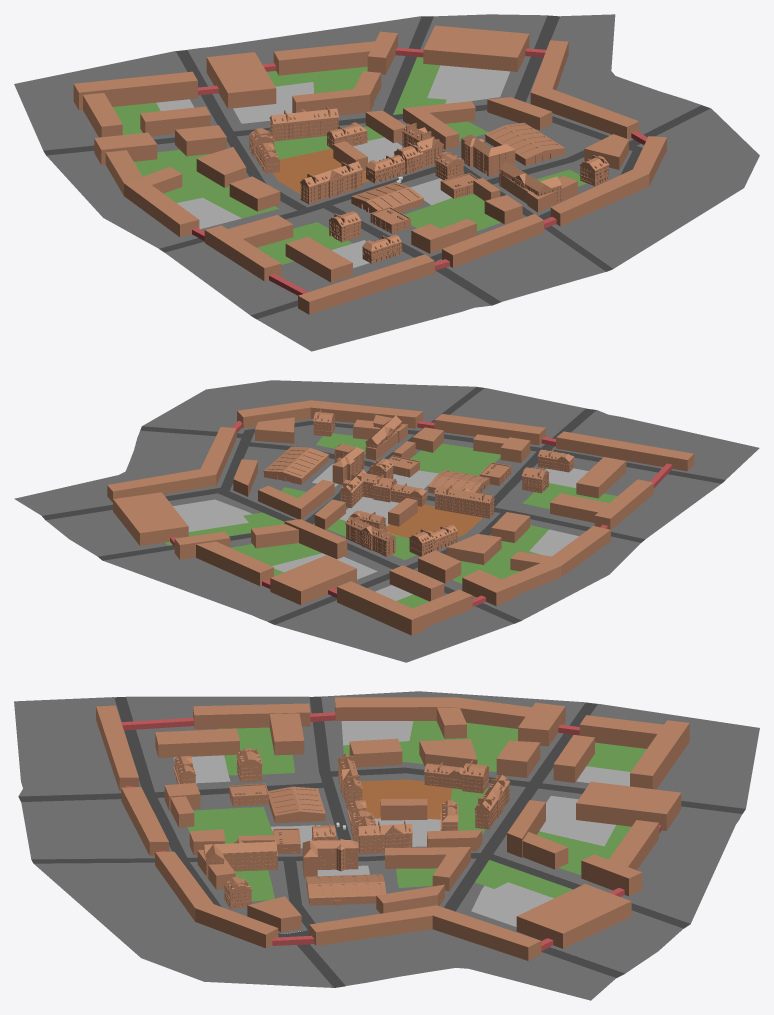
The model's file is new map mesh.fbx.
3 views of the same model, one above another, from view 1: azimuth 30°, elevation 25°; view 2: azimuth 150°, elevation 25°; view 3: azimuth 270°, elevation 25° (orthographic). The views are drawn at different scales.
Parts seen in each view (by area): view 1: Plane.001, Cube.007, Cube.034, Cube.053, Cube.052, Cube.039, Cube.035, Cube.017, Cube.041, Cube.019, Cube.008, Cube.010 (+35 smaller); view 2: Plane.001, Cube.034, Cube.053, Cube.007, Cube.035, Cube.052, Cube.017, Cube.039, Cube.019, Cube.041, Cube.010, Cube.008 (+35 smaller); view 3: Plane.001, Cube.034, Cube.007, Cube.017, Cube.035, Cube.053, Cube.033, Cube.039, Cube.008, Cube.010, Cube.050, Cube.052 (+36 smaller).
Boxes of the visible parts, left/top/right/bottom form: Plane.001: left=14, top=14, right=759, bottom=351; Cube.007: left=423, top=25, right=529, bottom=71; Cube.034: left=530, top=40, right=638, bottom=139; Cube.053: left=550, top=136, right=666, bottom=226; Cube.052: left=298, top=254, right=434, bottom=314; Cube.039: left=73, top=71, right=197, bottom=110; Cube.035: left=206, top=52, right=276, bottom=108; Cube.017: left=105, top=150, right=199, bottom=237; Cube.041: left=273, top=41, right=374, bottom=75; Cube.019: left=442, top=213, right=543, bottom=267; Cube.008: left=403, top=101, right=475, bottom=149; Cube.010: left=484, top=122, right=565, bottom=165; Plane.001: left=14, top=380, right=759, bottom=662; Cube.034: left=107, top=427, right=236, bottom=502; Cube.053: left=237, top=400, right=423, bottom=428; Cube.007: left=113, top=492, right=188, bottom=545; Cube.035: left=270, top=555, right=356, bottom=604; Cube.052: left=556, top=431, right=694, bottom=471; Cube.017: left=502, top=526, right=610, bottom=595; Cube.039: left=337, top=581, right=425, bottom=635; Cube.019: left=434, top=414, right=545, bottom=445; Cube.041: left=196, top=541, right=273, bottom=585; Cube.010: left=263, top=446, right=329, bottom=484; Cube.008: left=258, top=479, right=334, bottom=519; Plane.001: left=14, top=691, right=759, bottom=1000; Cube.034: left=309, top=905, right=541, bottom=960; Cube.007: left=516, top=884, right=631, bottom=948; Cube.017: left=335, top=697, right=531, bottom=728; Cube.035: left=576, top=781, right=681, bottom=830; Cube.053: left=155, top=851, right=278, bottom=948; Cube.033: left=193, top=703, right=310, bottom=729; Cube.039: left=630, top=720, right=689, bottom=789; Cube.008: left=385, top=847, right=470, bottom=891; Cube.010: left=306, top=874, right=386, bottom=905; Cube.050: left=155, top=728, right=239, bottom=758; Cube.052: left=96, top=705, right=138, bottom=791.
Size of the model in its own units: 3024 by 138 by 3081.
